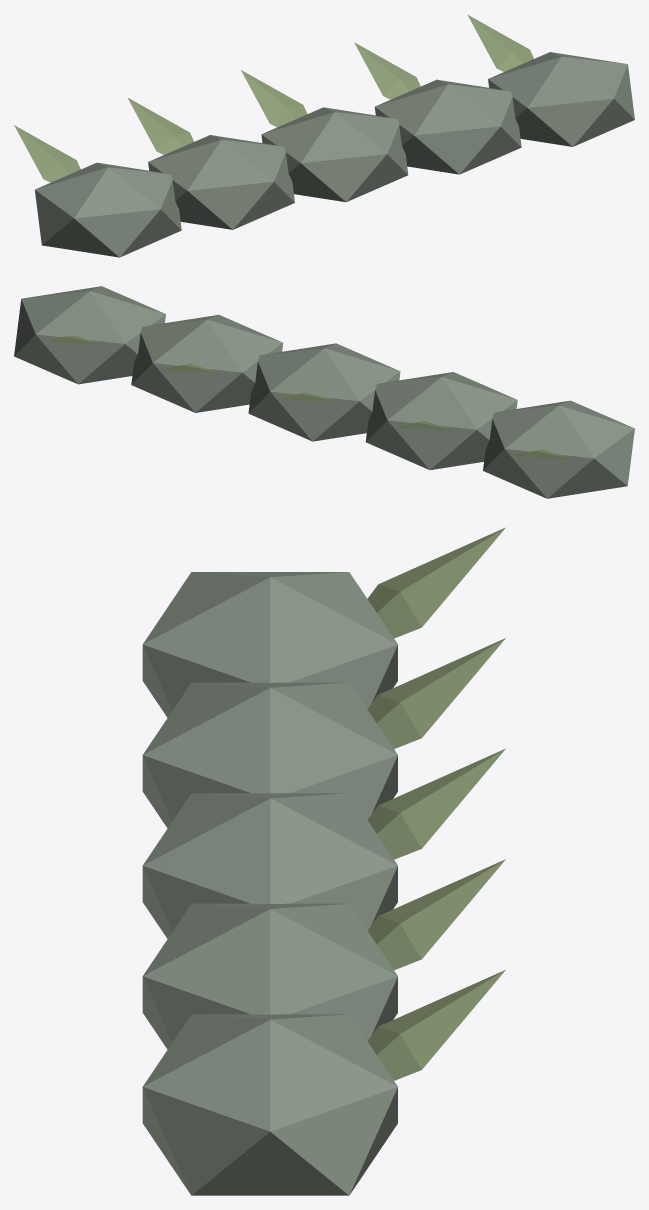
Rendered from map-exclusive-v3__ridge_14.glb.
3 renders of one model, top to bottom at view 1: azimuth 30°, elevation 25°; view 2: azimuth 150°, elevation 25°; view 3: azimuth 270°, elevation 25°, orthographic. The views are drawn at different scales.
Parts seen in each view (by area): view 1: ridge_14; view 2: ridge_14; view 3: ridge_14.
Part boxes in pixels (left/top/right/bottom): ridge_14: left=14, top=14, right=634, bottom=257; ridge_14: left=14, top=286, right=634, bottom=498; ridge_14: left=142, top=527, right=505, bottom=1195.
Bounding box in the file's own units: 3.16 × 0.48 × 0.8477.
